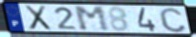2: (54, 6, 78, 30)
4: (138, 6, 157, 32)
8: (108, 5, 131, 33)
C: (157, 6, 188, 34)
M: (72, 6, 112, 32)
X: (23, 5, 53, 31)
